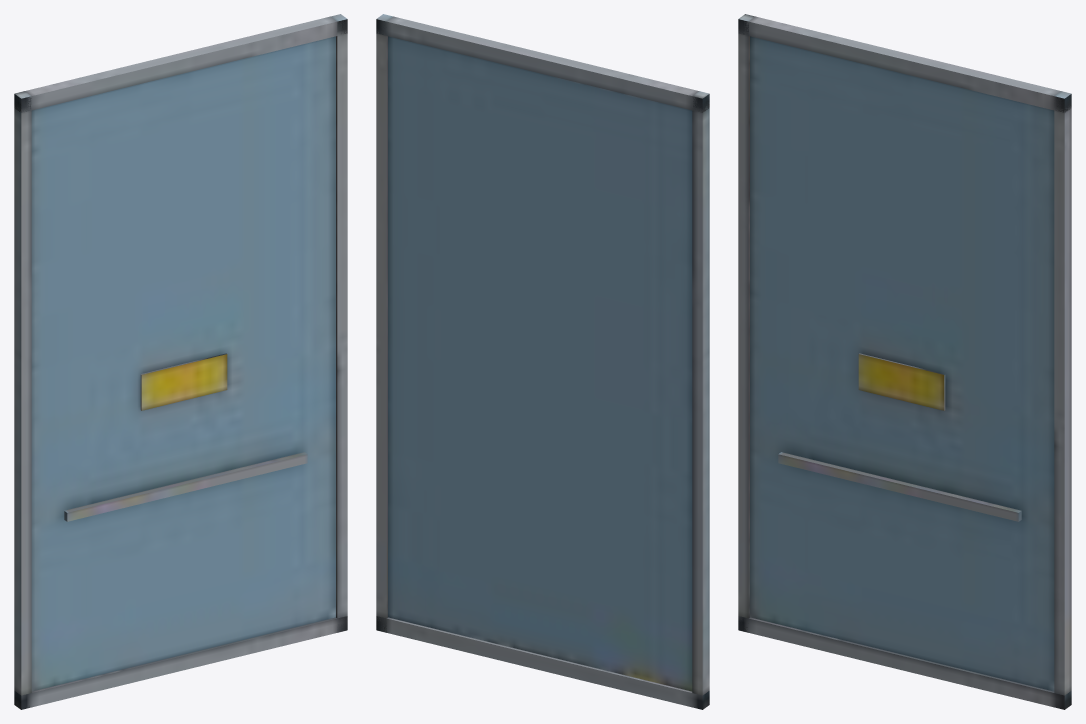
File: super_puerta.glb
3 renders of one model, left to right at view 1: azimuth 30°, elevation 25°; view 2: azimuth 150°, elevation 25°; view 3: azimuth 330°, elevation 25°, orthographic.
Visible parts, largest first — view 1: super_puerta; view 2: super_puerta; view 3: super_puerta.
Part boxes in pixels (left/top/right/bottom): super_puerta: left=14, top=14, right=347, bottom=709; super_puerta: left=376, top=14, right=709, bottom=709; super_puerta: left=738, top=14, right=1071, bottom=709.
Size of the model in its own units: 1.9 by 3.4 by 0.1.
1 material, 1 textured.
